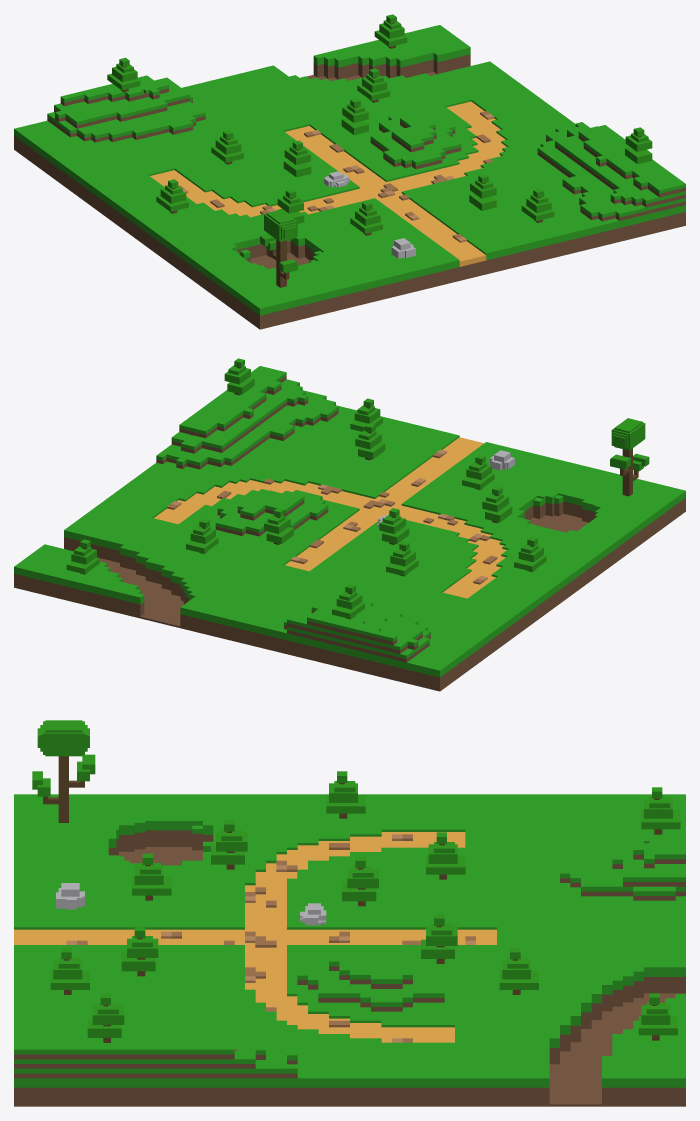
Rendered from background_village.obj.
3 renders of one model, top to bottom at view 1: azimuth 30°, elevation 25°; view 2: azimuth 150°, elevation 25°; view 3: azimuth 270°, elevation 25°, orthographic. The views are drawn at different scales.
Bounding box in the file's own units: 25.6 × 5.2 × 25.6.
Materials: 1 (1 with a texture image).
